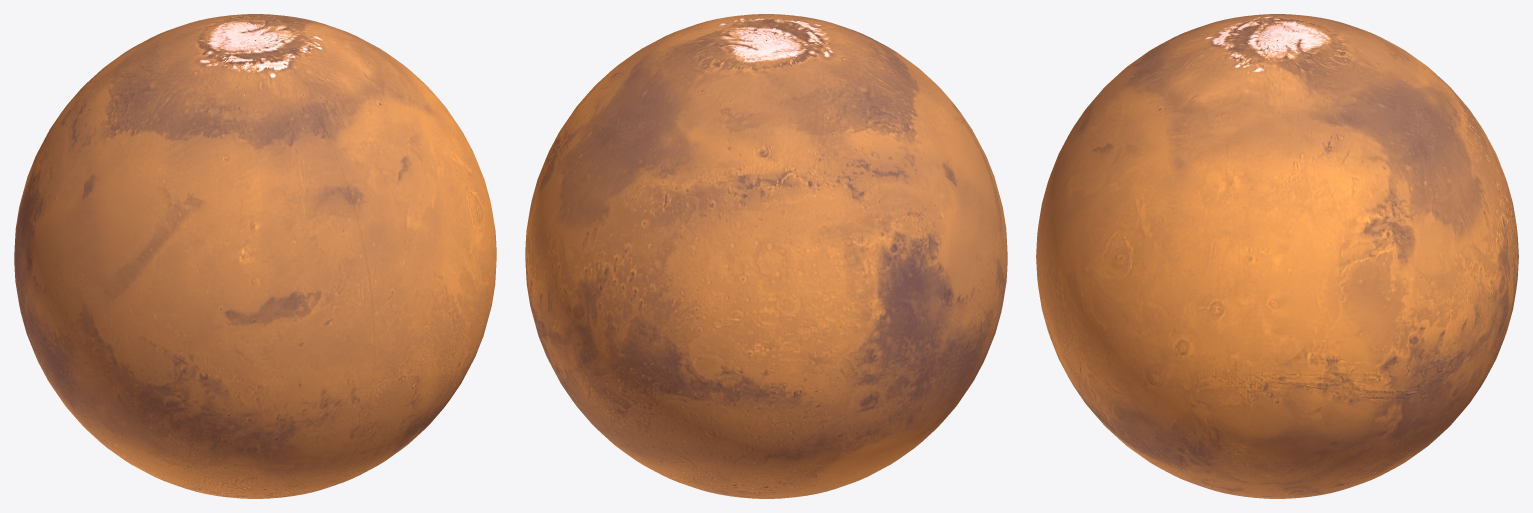
File: mars.gltf
The picture shows the model from 3 angles, left to right: view 1: azimuth 30°, elevation 25°; view 2: azimuth 150°, elevation 25°; view 3: azimuth 270°, elevation 25°; orthographic projection.
Visible parts, largest first — view 1: Sphere; view 2: Sphere; view 3: Sphere.
Boxes of the visible parts, x1,y1,x2,y2 form: Sphere: (14,14,496,498); Sphere: (525,14,1007,498); Sphere: (1036,14,1518,498).
Bounding box in the file's own units: 1.97 × 1.95 × 1.97.
1 material, 1 textured.
